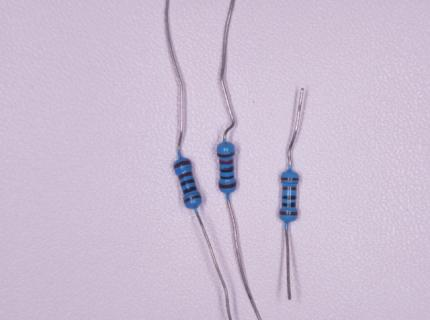Brown band: (178, 171, 192, 180), (282, 187, 296, 191)
